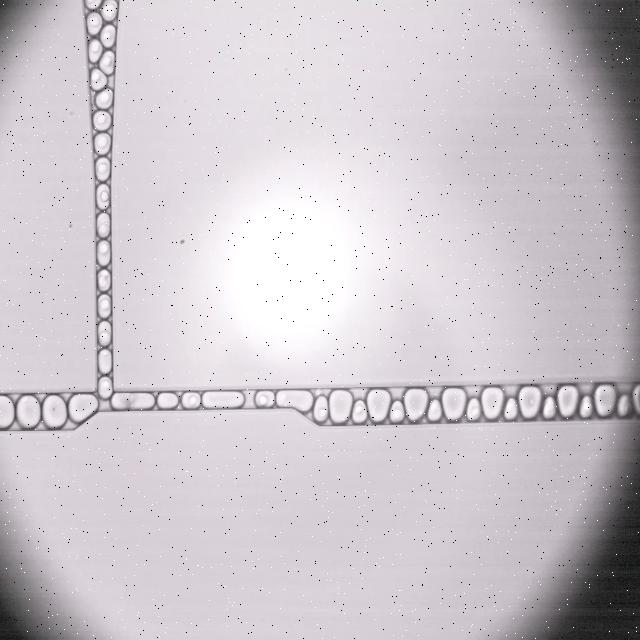L: (313, 396, 328, 422), (94, 133, 111, 155), (86, 12, 102, 35), (93, 111, 111, 131), (352, 400, 367, 424), (96, 240, 110, 265), (99, 51, 114, 74), (95, 157, 110, 180), (95, 89, 113, 108), (91, 69, 107, 90), (96, 213, 110, 237), (97, 294, 111, 318), (98, 349, 112, 373), (157, 393, 178, 409), (101, 25, 116, 47), (98, 377, 113, 399), (96, 184, 109, 209), (181, 392, 200, 409), (88, 39, 102, 62), (390, 400, 404, 423), (98, 321, 111, 345), (427, 399, 441, 421), (466, 398, 480, 420), (255, 391, 274, 407), (102, 0, 117, 20), (504, 398, 517, 420), (543, 397, 556, 419), (579, 396, 592, 418), (97, 270, 110, 291), (86, 0, 101, 9)
S: (42, 395, 67, 428), (276, 390, 312, 412), (367, 389, 391, 422), (69, 394, 97, 422), (404, 389, 428, 421), (442, 388, 466, 420), (17, 395, 40, 428), (329, 390, 352, 423), (593, 385, 615, 417), (202, 391, 243, 408), (111, 393, 154, 409), (481, 387, 503, 418), (519, 387, 541, 418), (557, 385, 578, 417), (0, 396, 14, 428), (632, 384, 640, 415)
